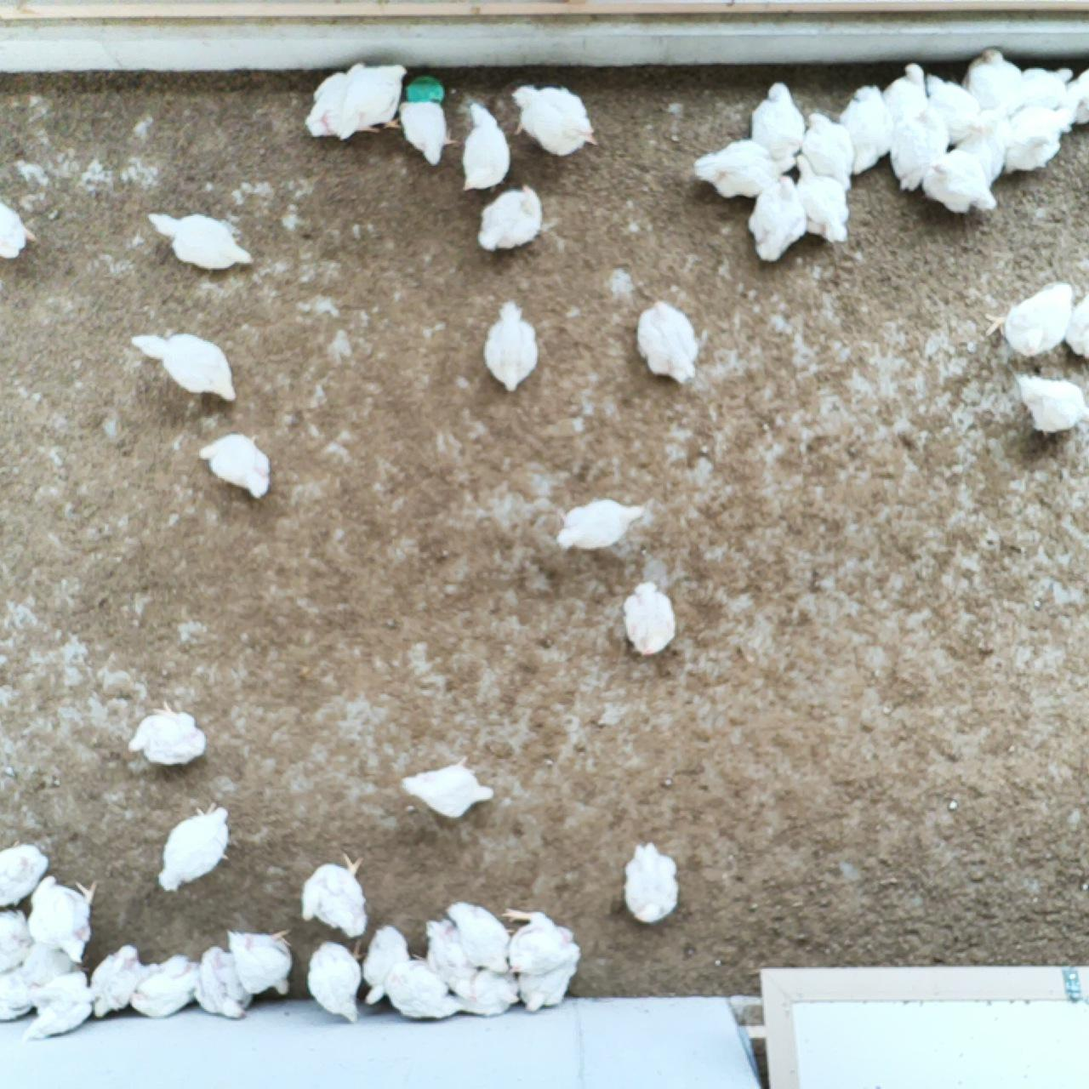chicken: (130, 328, 242, 405), (145, 207, 261, 275), (154, 798, 234, 895), (983, 279, 1076, 360), (397, 752, 496, 824), (297, 847, 372, 938), (691, 137, 799, 200), (27, 874, 100, 966), (511, 82, 599, 158), (124, 697, 210, 771), (631, 296, 702, 385), (482, 297, 544, 396), (791, 153, 854, 247), (747, 78, 808, 174), (441, 897, 514, 976), (919, 147, 998, 220), (304, 938, 368, 1028), (468, 182, 548, 254), (747, 172, 808, 265), (888, 106, 952, 193), (197, 428, 272, 502), (21, 969, 96, 1043), (498, 906, 575, 978), (554, 497, 649, 555), (224, 924, 297, 999), (190, 942, 257, 1023), (620, 840, 683, 925), (422, 916, 480, 1008), (838, 80, 894, 175), (340, 63, 411, 137), (1012, 368, 1089, 436), (303, 61, 368, 141), (383, 958, 460, 1024), (459, 99, 513, 191), (128, 952, 201, 1020), (620, 576, 678, 659), (357, 921, 410, 1010), (89, 944, 147, 1023), (800, 110, 854, 189), (398, 97, 457, 169), (1002, 64, 1077, 117), (1008, 109, 1071, 169), (0, 839, 53, 910), (959, 45, 1020, 105), (923, 73, 982, 135), (515, 964, 581, 1015), (456, 969, 518, 1015), (963, 107, 1012, 165), (882, 63, 930, 115), (0, 200, 38, 265), (0, 908, 31, 979), (0, 967, 35, 1028), (1064, 287, 1089, 363), (22, 942, 69, 982), (1060, 69, 1089, 123)
